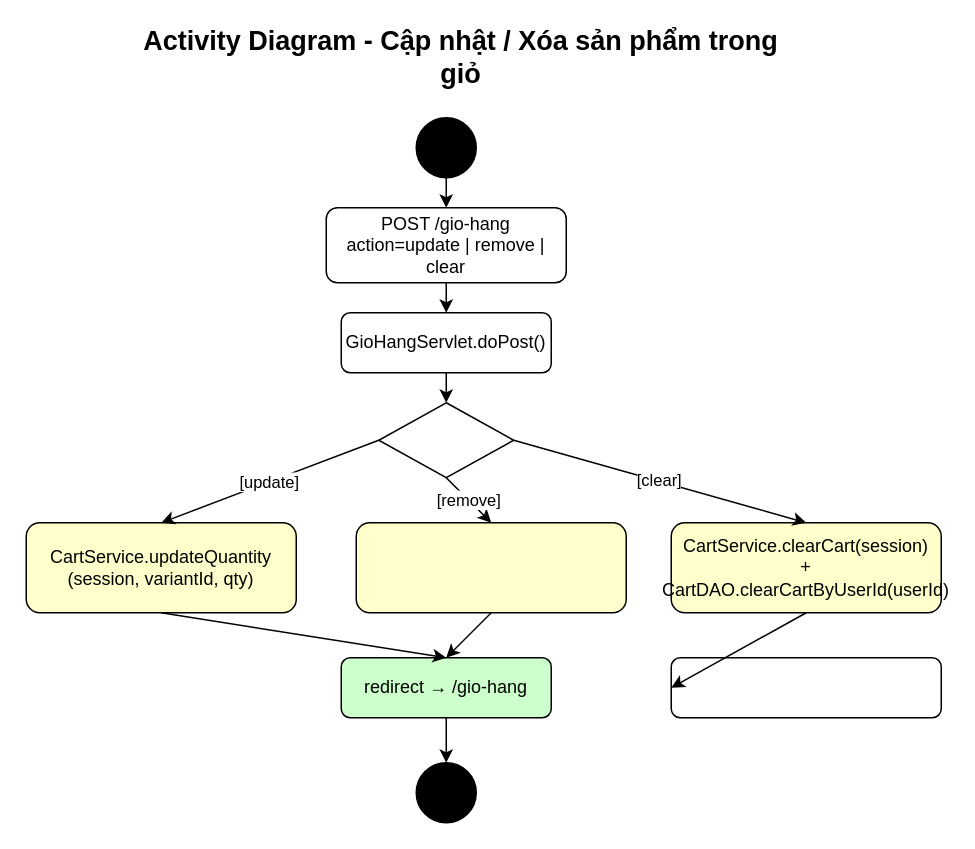
This 975x849 diagram has some shape labels left out. Each missing label, with the centre of its shape:
CartService.removeFromCart (session, variantId): [490,567]
flashSuccess (nếu clear): [805,687]
